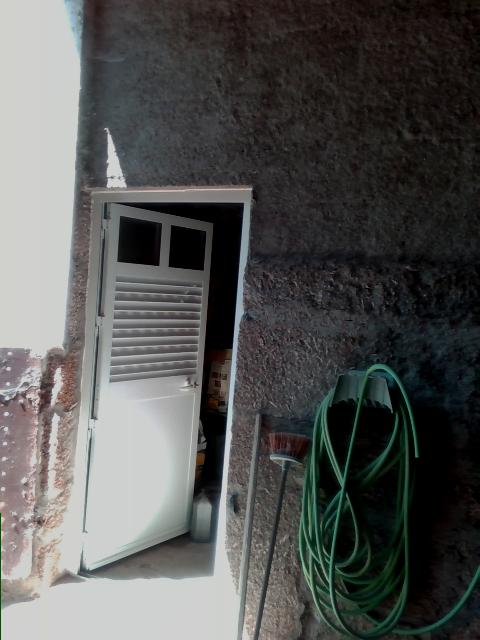semi_door: (64, 186, 249, 580)
